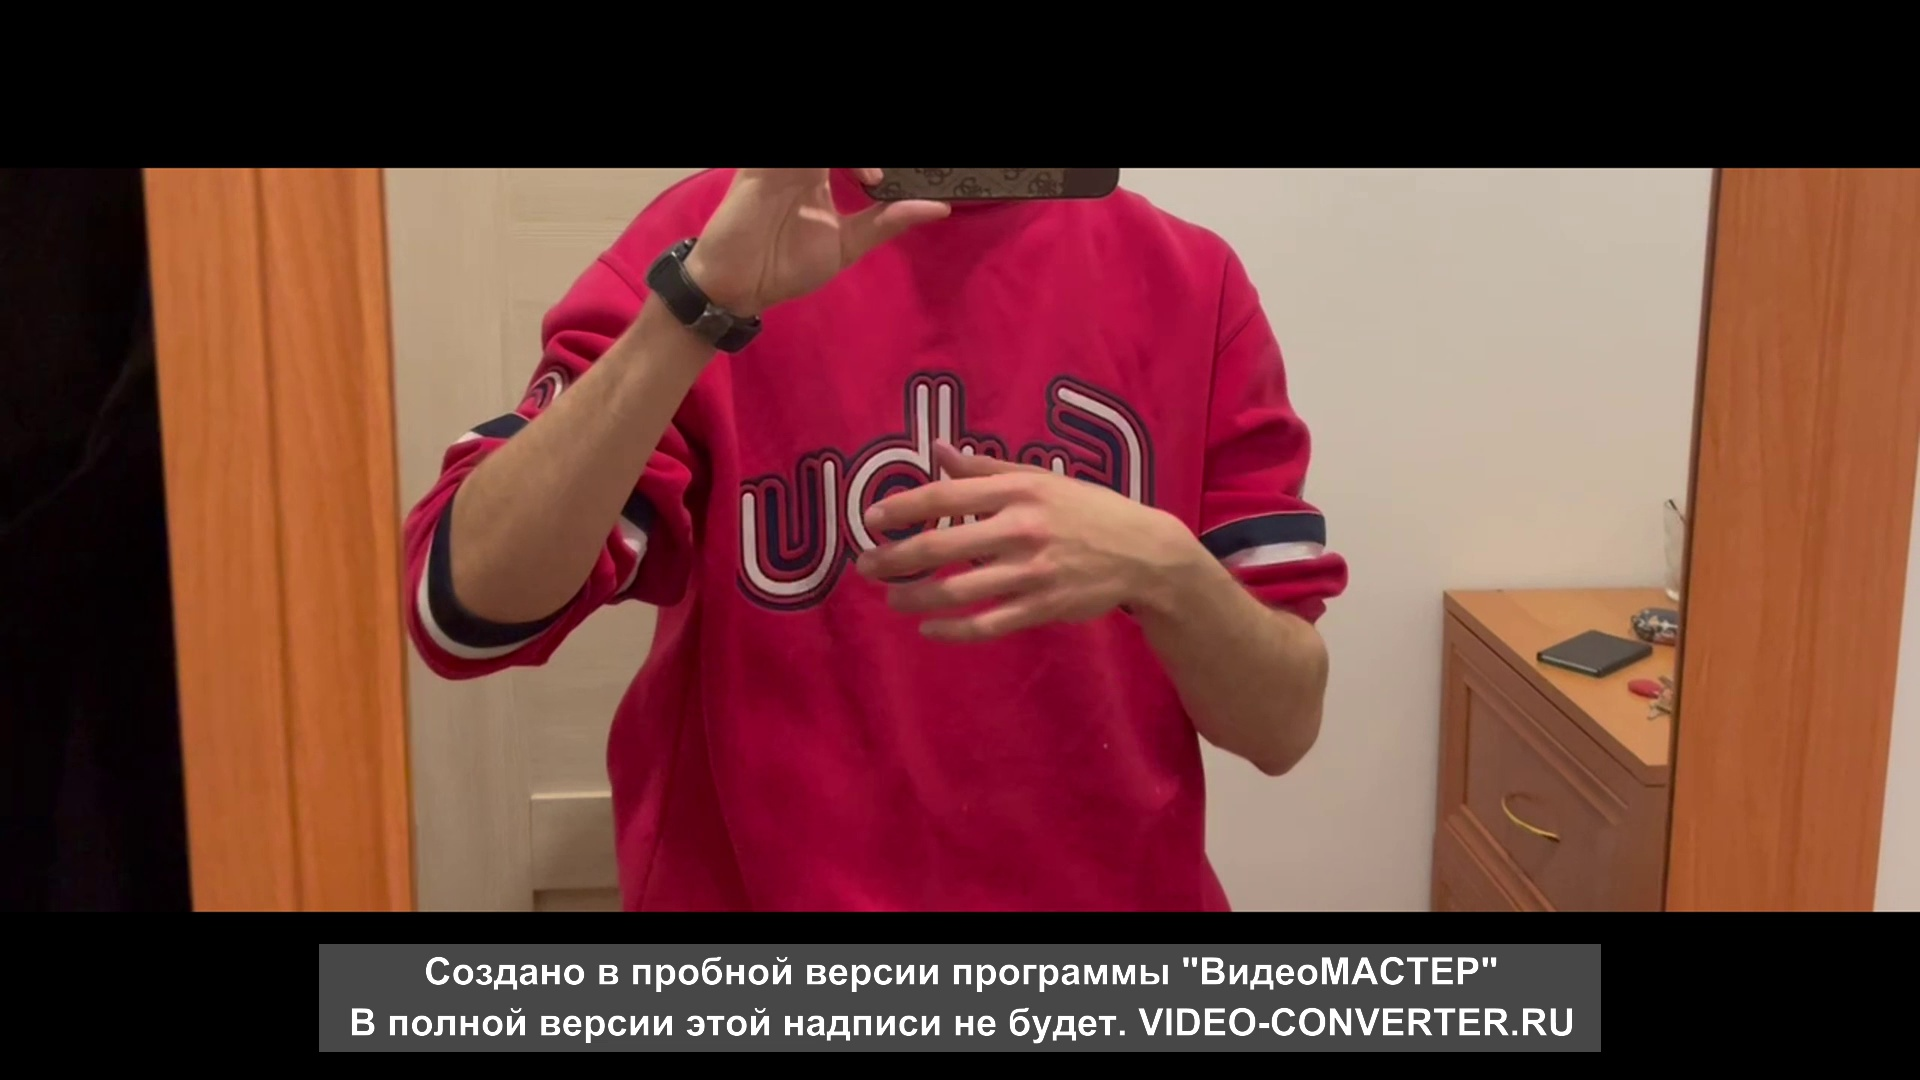Кисть: (856, 443, 1145, 646)
